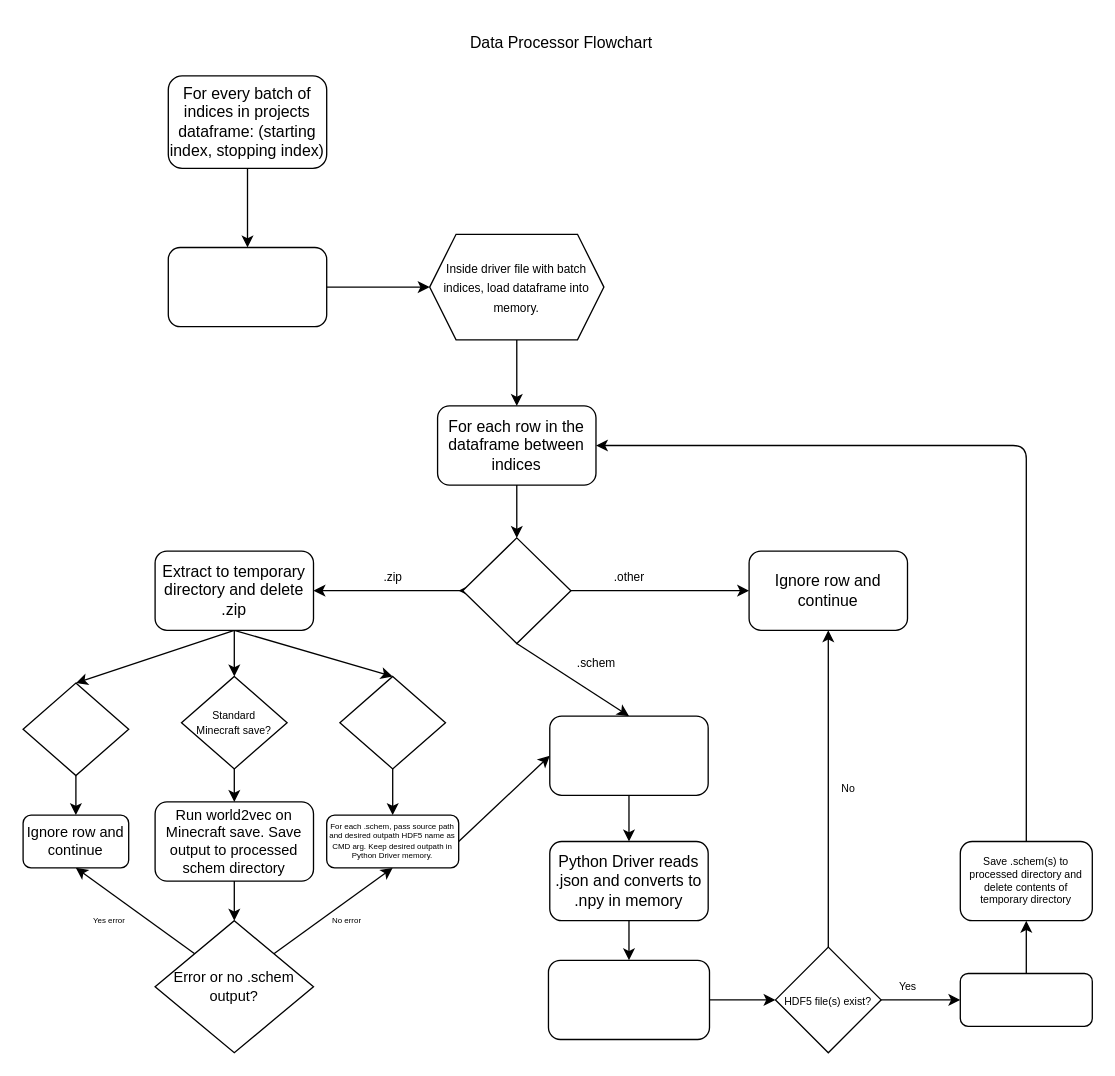
This 1115x1076 diagram has some shape labels left out. The centre of each missing label's shape, as x and y in pixels:
.zip/.schem /.other: (516,590)
List of .schems?: (392,722)
Other?: (75,729)
Python Driver converts .npy to HDF5. HDF5 is saved in fully processed directory: (628,999)
Python runs Java Driver to convert .schem to .json in temporary directory: (628,755)
Submit batch indices to driver python file: (247,286)
Update dataframe row in memory to contain the list of HDF5 file paths.: (1025,999)
